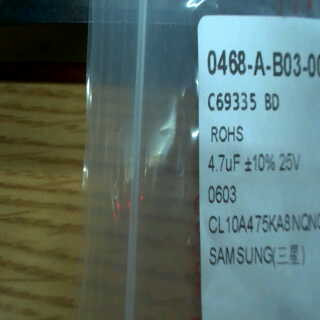4.7uF: (204, 147, 242, 177)
